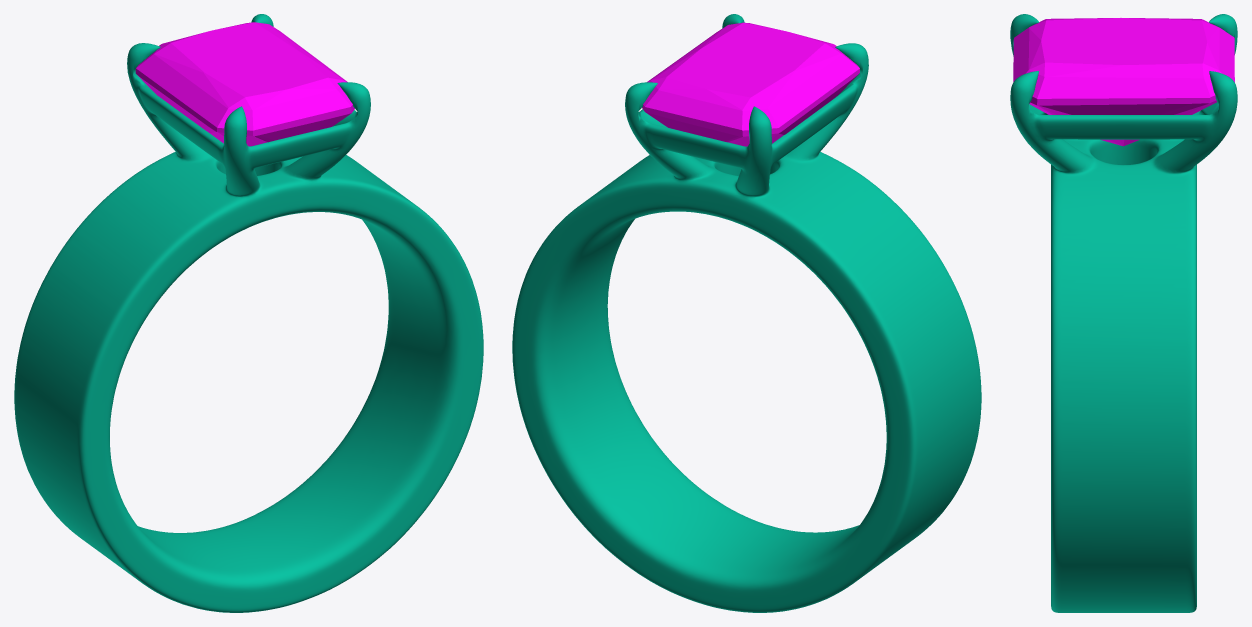
Rendered from BE1258_RA_200ct_RENDER.glb.
3 renders of one model, left to right at view 1: azimuth 30°, elevation 25°; view 2: azimuth 150°, elevation 25°; view 3: azimuth 270°, elevation 25°, orthographic. The views are drawn at different scales.
Parts seen in each view (by area): view 1: Metal 01, CS_Diamond_Radiant; view 2: Metal 01, CS_Diamond_Radiant; view 3: Metal 01, CS_Diamond_Radiant.
Part boxes in pixels (<box>): Metal 01: <box>14,14,483,612</box>; CS_Diamond_Radiant: <box>135,22,354,146</box>; Metal 01: <box>512,14,981,612</box>; CS_Diamond_Radiant: <box>642,22,859,146</box>; Metal 01: <box>1010,14,1237,612</box>; CS_Diamond_Radiant: <box>1013,18,1234,146</box>.
Size of the model in its own units: 20.1 by 24.87 by 9.34.
